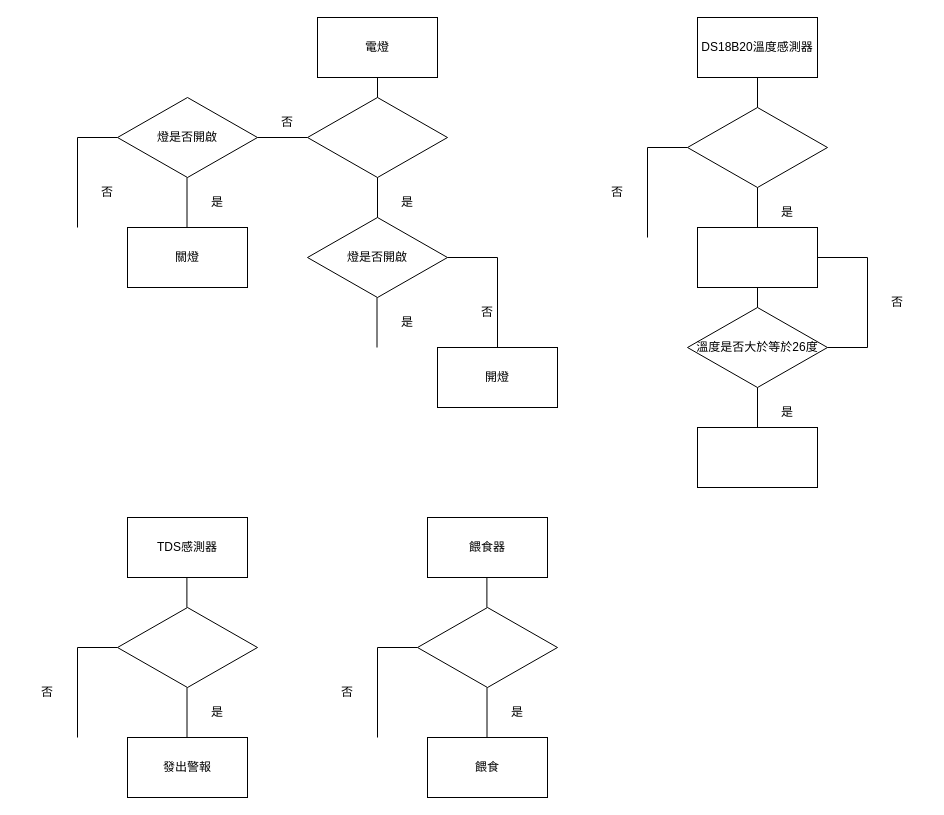
Some shapes in this 944 by 815 pixel diagram are drawn without their labels. Each missing label, with the box of its shape:
TDS值是否高於300ppm: (116, 606, 258, 688)
啟動加熱棒: (696, 226, 818, 288)
是否開燈: (306, 96, 448, 178)
是否餵食: (416, 606, 558, 688)
溫度是否低於24度: (686, 106, 828, 188)
關閉加熱棒: (696, 426, 818, 488)
